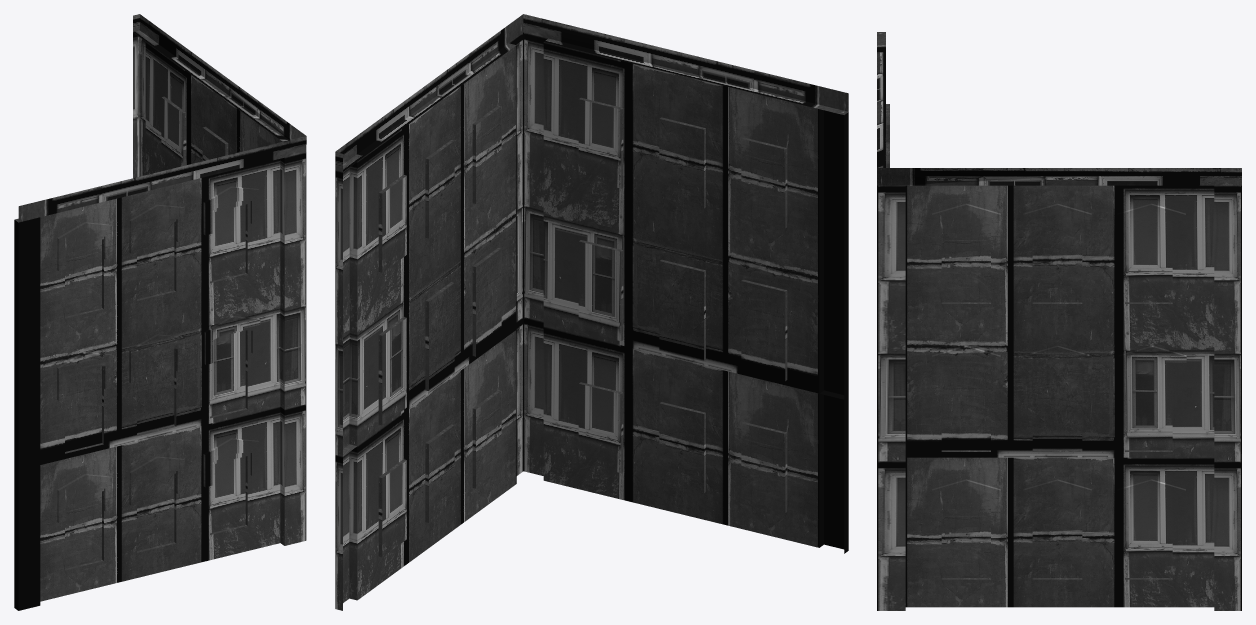
Rendered from skidrow_building_9.fbx.
3 renders of one model, left to right at view 1: azimuth 30°, elevation 25°; view 2: azimuth 150°, elevation 25°; view 3: azimuth 270°, elevation 25°, orthographic. The views are drawn at different scales.
Parts seen in each view (by area): view 1: skidrow_building_09; view 2: skidrow_building_09; view 3: skidrow_building_09.
Boxes of the visible parts, x1,y1,x2,y2 form: skidrow_building_09: (14, 14, 306, 610); skidrow_building_09: (335, 14, 848, 610); skidrow_building_09: (877, 32, 1241, 610).
Bounding box in the file's own units: 669 × 899 × 671.
